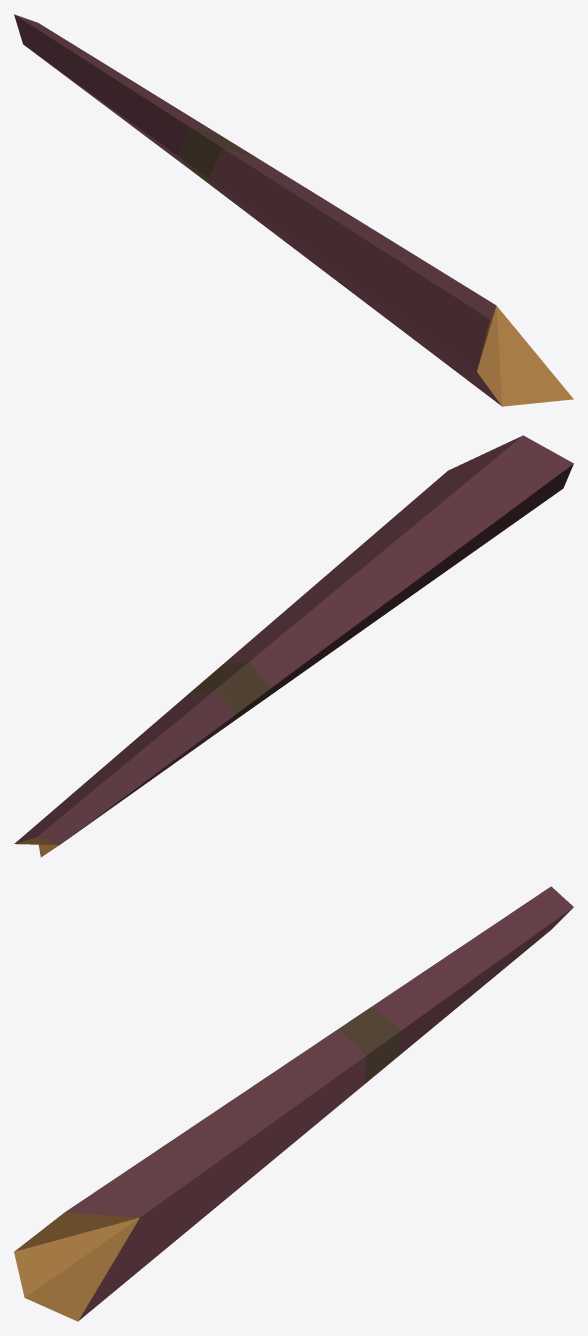
File: tree-birch-debris-d.fbx
The picture shows the model from 3 angles, top to bottom: view 1: azimuth 30°, elevation 25°; view 2: azimuth 150°, elevation 25°; view 3: azimuth 330°, elevation 25°; orthographic projection. The views are drawn at different scales.
Visible parts, largest first — view 1: tree-birch-debris-d; view 2: tree-birch-debris-d; view 3: tree-birch-debris-d.
Boxes of the visible parts, bbox=[...] form: tree-birch-debris-d: bbox=[14, 14, 573, 406]; tree-birch-debris-d: bbox=[14, 435, 573, 857]; tree-birch-debris-d: bbox=[14, 886, 573, 1321].
Size of the model in its own units: 0.0906 by 0.0721 by 1.
